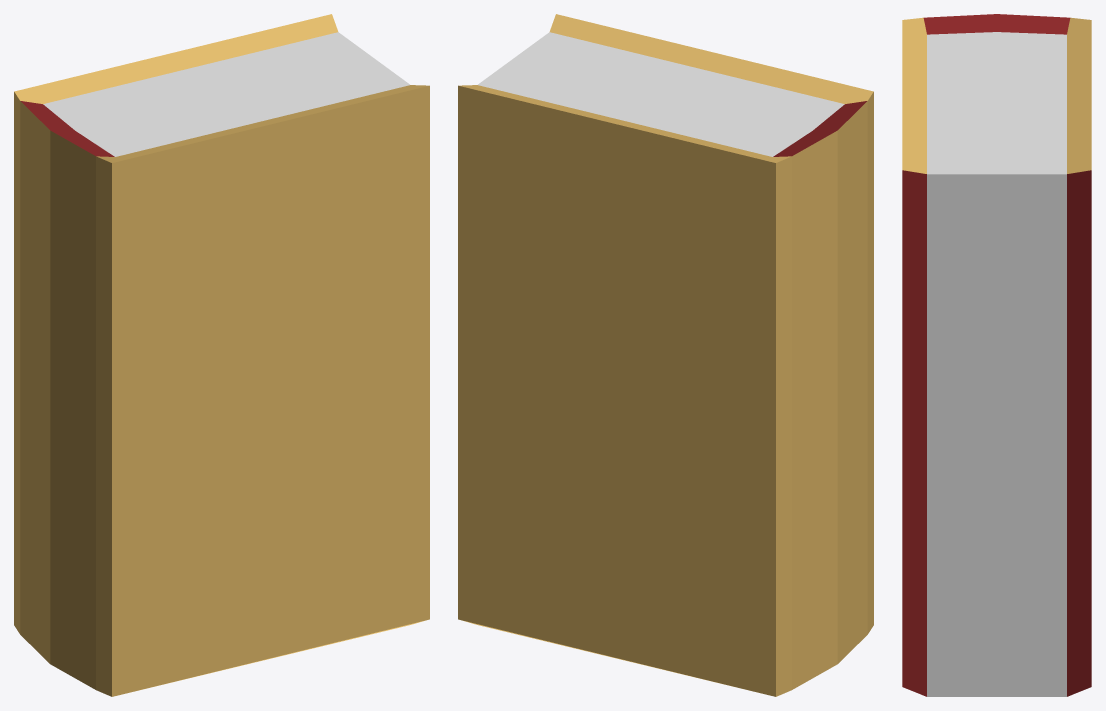
File: yellow book.fbx
3 views of the same model, side by side, from view 1: azimuth 30°, elevation 25°; view 2: azimuth 150°, elevation 25°; view 3: azimuth 270°, elevation 25° (orthographic). The views are drawn at different scales.
Visible parts, largest first — view 1: Book01; view 2: Book01; view 3: Book01.
Boxes of the visible parts, x1,y1,x2,y2 form: Book01: [14, 14, 429, 696]; Book01: [458, 14, 873, 696]; Book01: [902, 14, 1091, 696].
Size of the model in its own units: 41.95 by 66.34 by 21.5.
